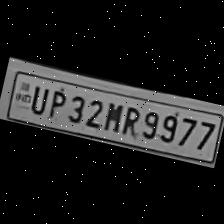2: (80, 92, 108, 130)
3: (62, 88, 89, 124)
7: (191, 116, 218, 153), (173, 112, 199, 148)
9: (136, 104, 163, 141), (154, 108, 180, 144)
M: (100, 96, 126, 132)
P: (44, 84, 68, 120)
R: (117, 101, 143, 137)
U: (24, 80, 50, 116)
